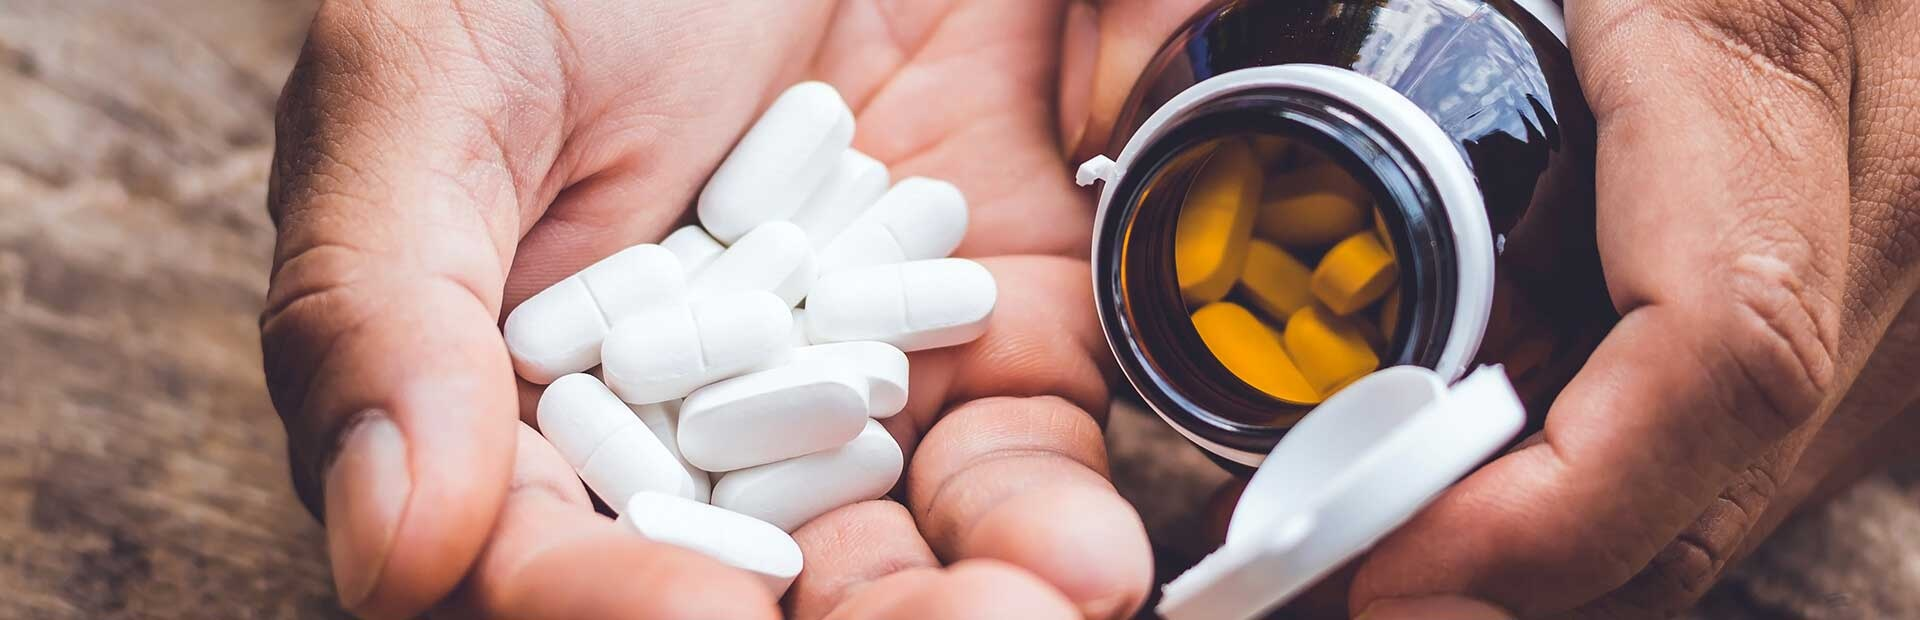pills: (696, 66, 849, 225), (613, 272, 798, 399), (784, 248, 1005, 339), (605, 489, 793, 593), (722, 430, 911, 497), (1307, 225, 1402, 343)
